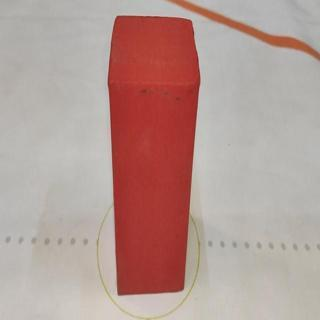redbox: (105, 14, 201, 295)
